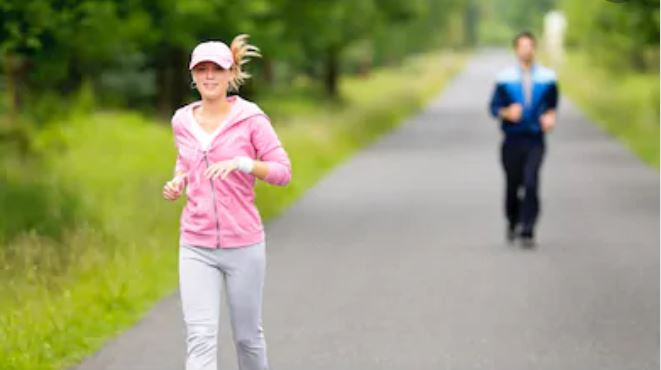Good: (159, 30, 563, 370)
